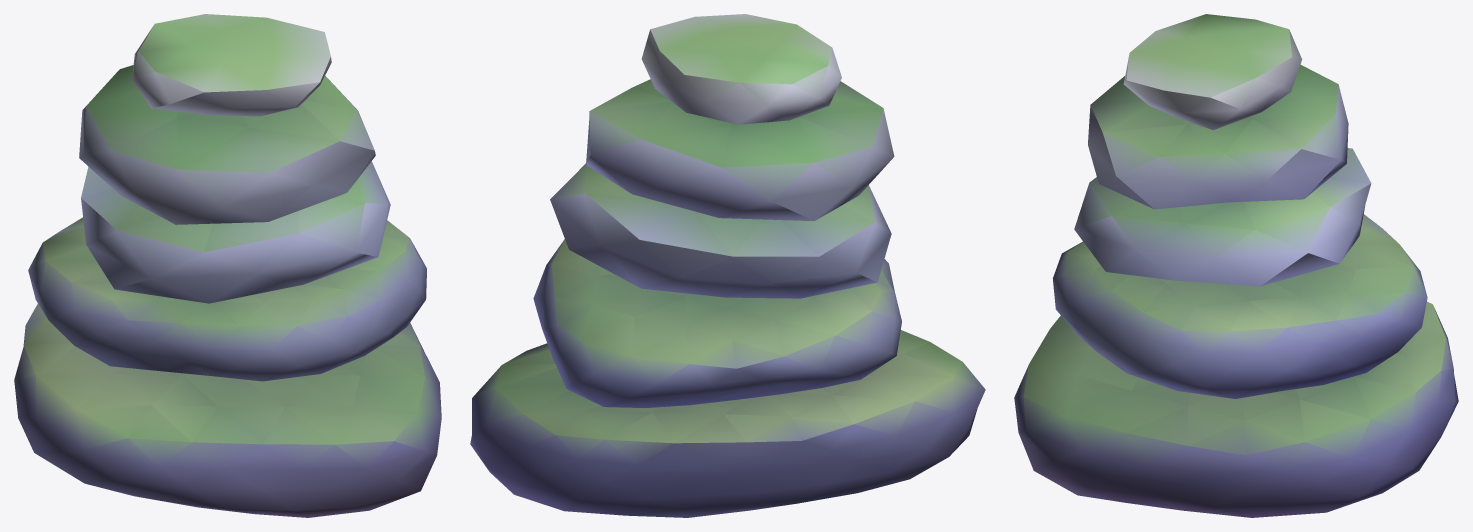
File: verdant_rock_cairn_a.glb
3 views of the same model, side by side, from view 1: azimuth 30°, elevation 25°; view 2: azimuth 150°, elevation 25°; view 3: azimuth 270°, elevation 25° (orthographic). The views are drawn at different scales.
Parts seen in each view (by area): view 1: verdant_rock_cairn_a; view 2: verdant_rock_cairn_a; view 3: verdant_rock_cairn_a.
Part boxes in pixels (<box>): verdant_rock_cairn_a: <box>14,14,441,517</box>; verdant_rock_cairn_a: <box>470,14,985,517</box>; verdant_rock_cairn_a: <box>1014,14,1458,517</box>.
Size of the model in its own units: 0.9723 by 0.9673 by 0.9807.
